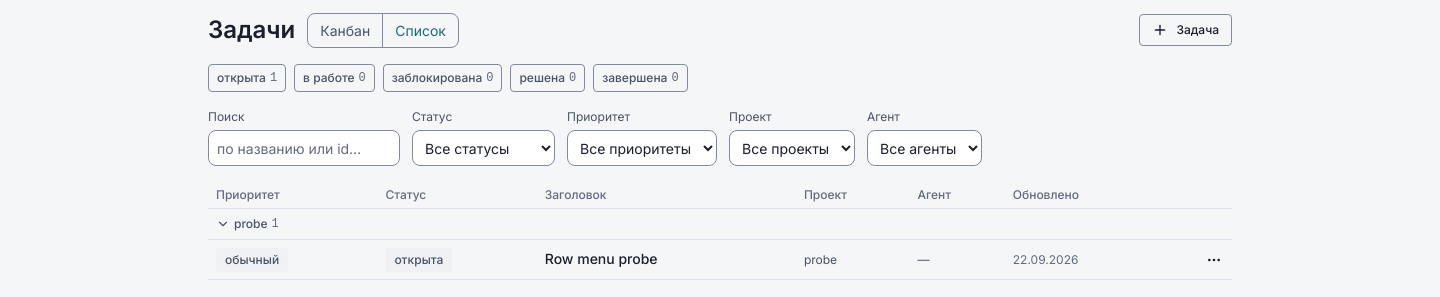
Test: list-row right-click (fix/list-row-context-menu) › right-click opens the row menu at the cursor; Esc closes
Right-click the row "обычный открыта Row menu probe probe — 22.09.2026" at (720, 260), box [208,240,1232,280]
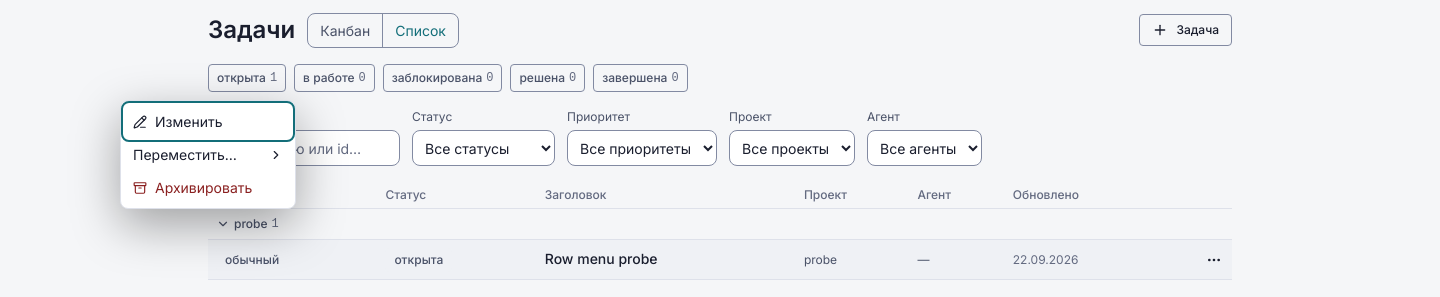
Now the menu is shown, box [120,100,296,209]
Now the text "Переместить…" is shown, box [133,146,237,163]
Press Escape in the row that starts with "обычный", box [208,240,1232,280]
Press the mouse on the element that starts with "Задачи" at (720, 146), box [0,12,1439,280]
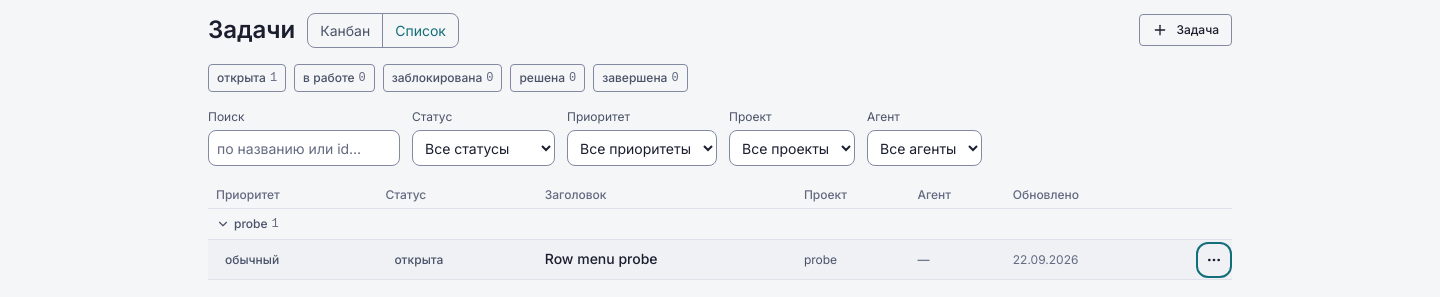
Now the menu item is gone
